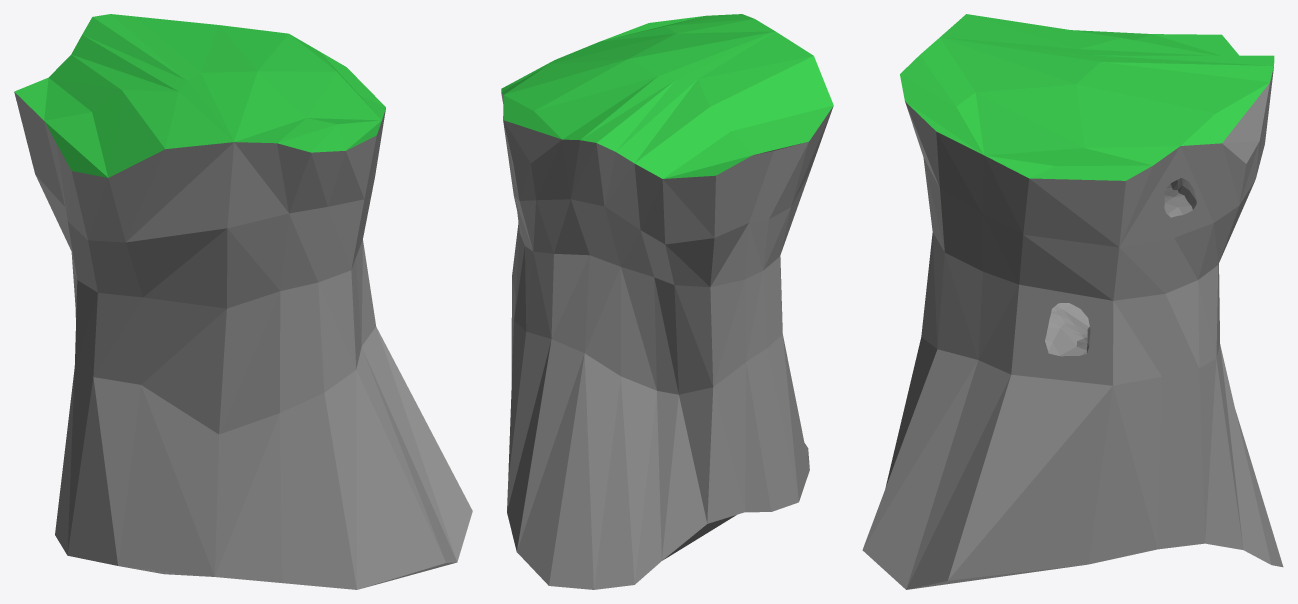
File: rock_test_path.glb
The picture shows the model from 3 angles, left to right: view 1: azimuth 30°, elevation 25°; view 2: azimuth 150°, elevation 25°; view 3: azimuth 270°, elevation 25°; orthographic projection. The views are drawn at different scales.
Parts seen in each view (by area): view 1: rock; view 2: rock; view 3: rock.
Part boxes in pixels (x1,y1,x2,y2): rock: (14, 14, 472, 589); rock: (501, 14, 833, 589); rock: (862, 14, 1283, 589).
Size of the model in its own units: 19.97 by 27.94 by 21.52.
